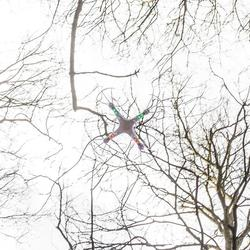drone: (97, 86, 166, 153)
